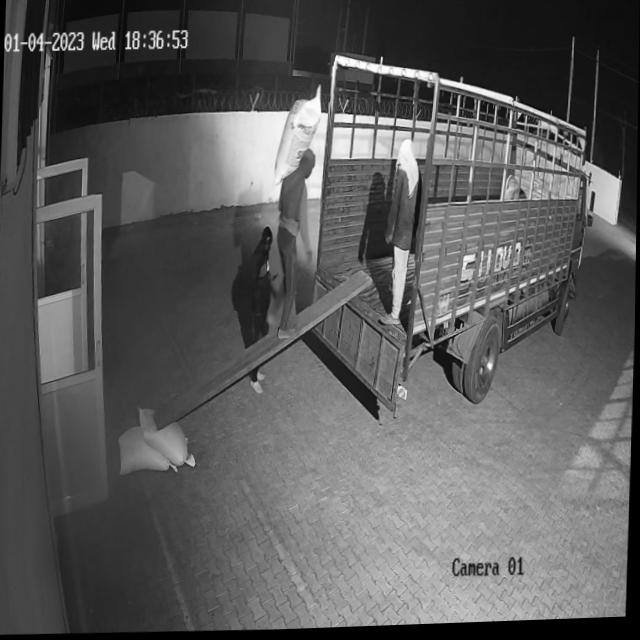sack: (274, 87, 321, 192), (136, 403, 200, 470), (119, 424, 178, 474)
